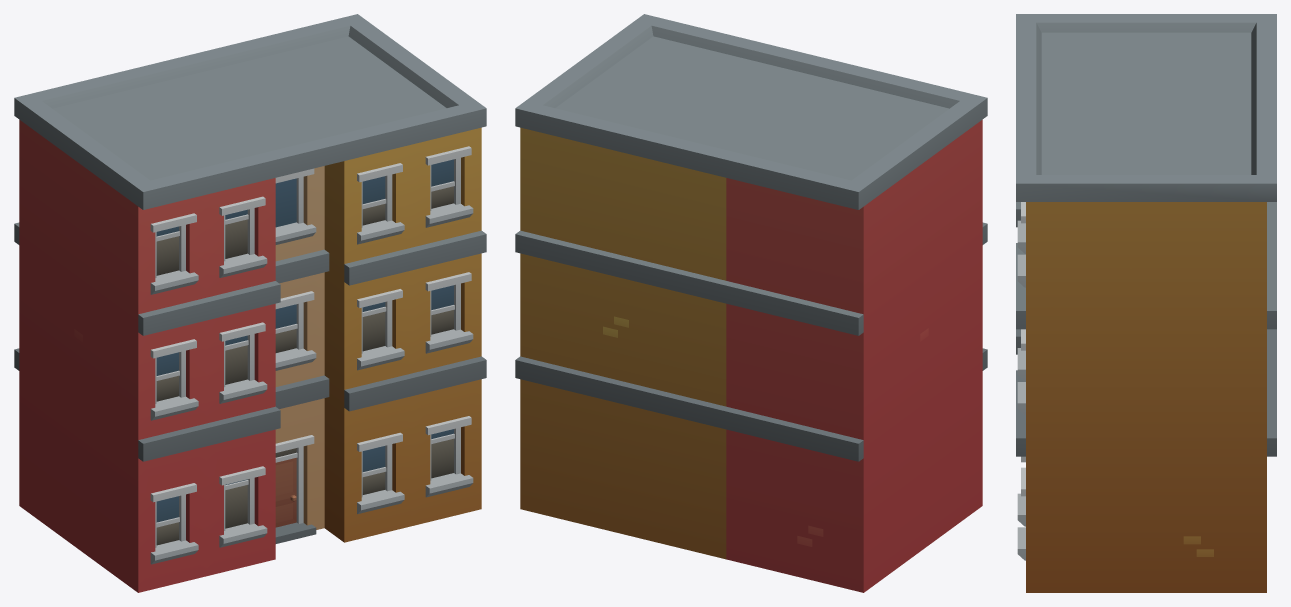
The model's file is city-building-f.glb.
The picture shows the model from 3 angles, left to right: view 1: azimuth 30°, elevation 25°; view 2: azimuth 150°, elevation 25°; view 3: azimuth 270°, elevation 25°; orthographic projection.
Visible parts, largest first — view 1: building_F_withoutBase; view 2: building_F_withoutBase; view 3: building_F_withoutBase.
Part boxes in pixels (left/top/right/bottom): building_F_withoutBase: left=14, top=14, right=486, bottom=592; building_F_withoutBase: left=515, top=14, right=987, bottom=592; building_F_withoutBase: left=1016, top=14, right=1276, bottom=592.
Bounding box in the file's own units: 2.01 × 2.25 × 1.3.
